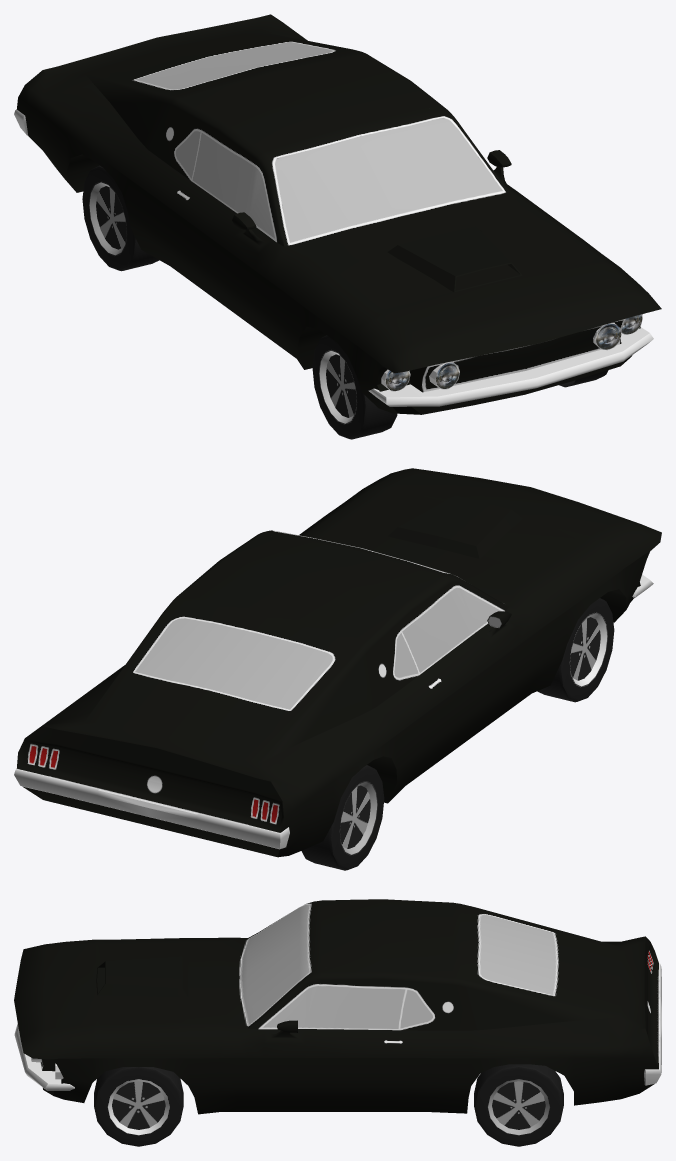
File: Car_1970.fbx
The picture shows the model from 3 angles, top to bottom: view 1: azimuth 30°, elevation 25°; view 2: azimuth 150°, elevation 25°; view 3: azimuth 270°, elevation 25°; orthographic projection. The views are drawn at different scales.
Parts seen in each view (by area): view 1: car; view 2: car; view 3: car.
Boxes of the visible parts, x1,y1,x2,y2 form: car: [14, 14, 661, 439]; car: [14, 468, 661, 870]; car: [14, 899, 661, 1146].
Bounding box in the file's own units: 192 × 135 × 481.
1 material, 1 textured.
